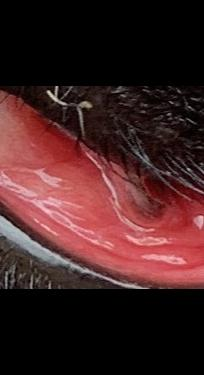eye_membrane: (0, 91, 204, 284)
